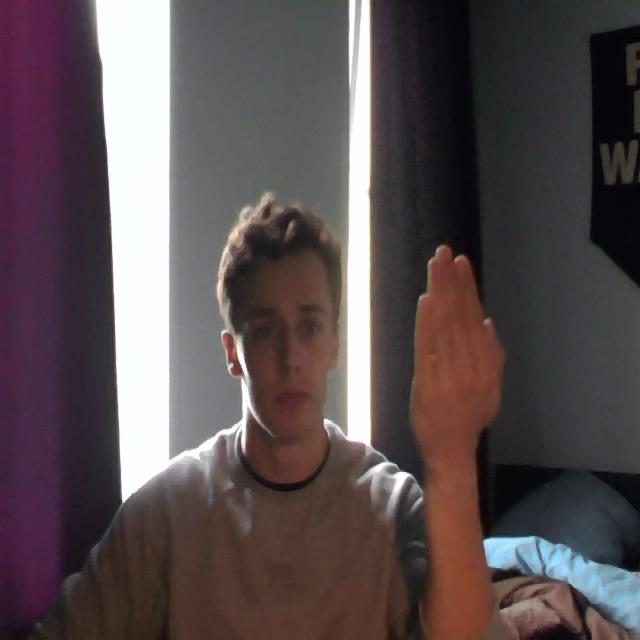forward: (406, 239, 511, 454)
